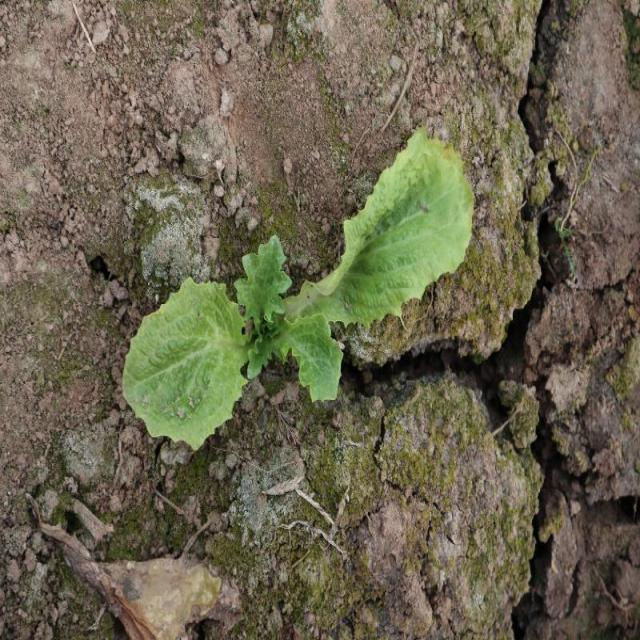crop: (119, 132, 473, 448)
